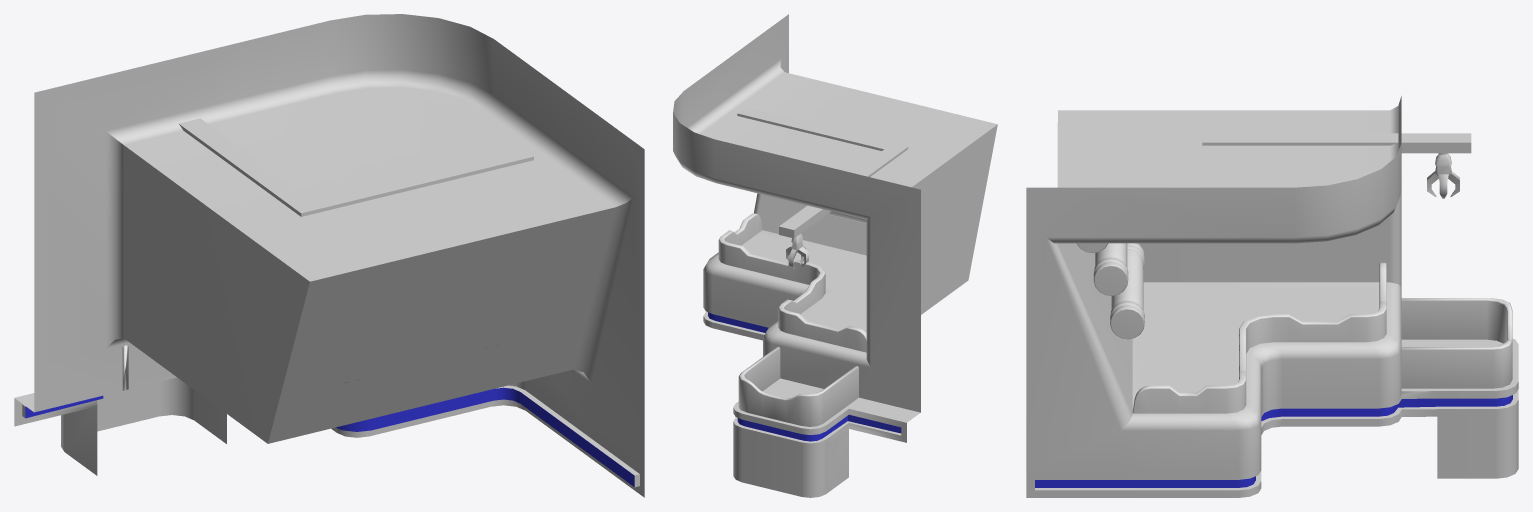
Rendered from FarmBlockOut_GrowStation.fbx.
3 renders of one model, left to right at view 1: azimuth 30°, elevation 25°; view 2: azimuth 150°, elevation 25°; view 3: azimuth 270°, elevation 25°, orthographic. The views are drawn at different scales.
Visible parts, largest first — view 1: GrowSation.001; view 2: GrowSation.001; view 3: GrowSation.001.
Part boxes in pixels (box(x1,y1,x2,y2)): GrowSation.001: box(14, 14, 644, 497); GrowSation.001: box(673, 14, 997, 497); GrowSation.001: box(1026, 96, 1518, 497).
Bounding box in the file's own units: 600 × 600 × 719.
